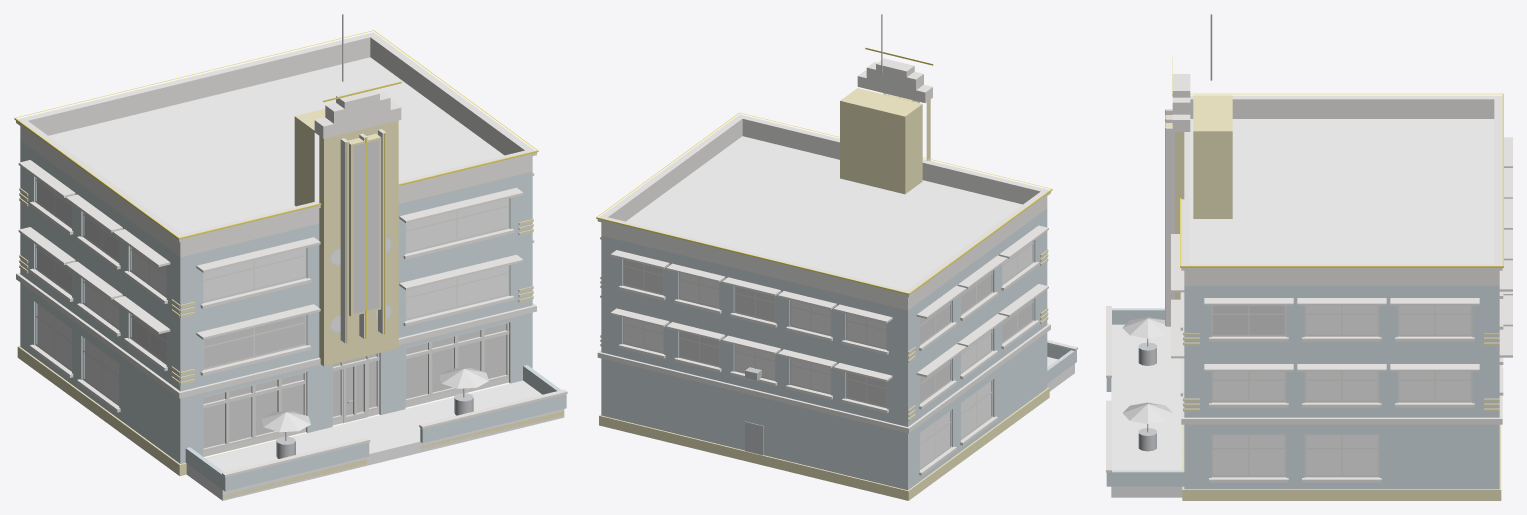
File: deco_w66f2.glb
3 views of the same model, side by side, from view 1: azimuth 30°, elevation 25°; view 2: azimuth 150°, elevation 25°; view 3: azimuth 270°, elevation 25° (orthographic). The views are drawn at different scales.
Visible parts, largest first — view 1: deco_w66f2_Trim, deco_w66f2_Walls, deco_w66f2_Roof, deco_w66f2_Accent, deco_w66f2_WindowsLit, deco_w66f2_Glass, deco_w66f2_Frames, deco_w66f2_Walls2, deco_w66f2_Brand, deco_w66f2_Neon, deco_w66f2_Awning, deco_w66f2_Details; view 2: deco_w66f2_Walls, deco_w66f2_Trim, deco_w66f2_Roof, deco_w66f2_Accent, deco_w66f2_Glass, deco_w66f2_WindowsLit, deco_w66f2_Frames, deco_w66f2_Neon, deco_w66f2_Details; view 3: deco_w66f2_Roof, deco_w66f2_Walls, deco_w66f2_Trim, deco_w66f2_Glass, deco_w66f2_Accent, deco_w66f2_Walls2, deco_w66f2_Frames, deco_w66f2_WindowsLit, deco_w66f2_Neon, deco_w66f2_Awning, deco_w66f2_Details.
Part boxes in pixels (box(x1,y1,x2,y2)): deco_w66f2_Trim: box(16, 32, 567, 477); deco_w66f2_Walls: box(20, 140, 566, 491); deco_w66f2_Roof: box(48, 57, 504, 233); deco_w66f2_Accent: box(17, 109, 564, 498); deco_w66f2_WindowsLit: box(37, 178, 506, 448); deco_w66f2_Glass: box(37, 198, 507, 404); deco_w66f2_Frames: box(35, 177, 509, 451); deco_w66f2_Walls2: box(186, 380, 564, 500); deco_w66f2_Brand: box(353, 140, 379, 313); deco_w66f2_Neon: box(14, 30, 538, 343); deco_w66f2_Awning: box(261, 367, 488, 432); deco_w66f2_Details: box(276, 14, 473, 458); deco_w66f2_Walls: box(601, 208, 1076, 490); deco_w66f2_Trim: box(597, 58, 1077, 475); deco_w66f2_Roof: box(626, 136, 1022, 289); deco_w66f2_Accent: box(599, 88, 1049, 500); deco_w66f2_Glass: box(624, 242, 1032, 468); deco_w66f2_WindowsLit: box(624, 259, 1032, 406); deco_w66f2_Frames: box(622, 241, 1034, 469); deco_w66f2_Neon: box(596, 47, 1052, 294); deco_w66f2_Details: box(745, 14, 882, 455); deco_w66f2_Roof: box(1189, 119, 1494, 263); deco_w66f2_Walls: box(1106, 286, 1499, 489); deco_w66f2_Trim: box(1106, 74, 1512, 482); deco_w66f2_Glass: box(1213, 305, 1470, 475); deco_w66f2_Accent: box(1111, 95, 1501, 500); deco_w66f2_Walls2: box(1111, 324, 1183, 497); deco_w66f2_Frames: box(1211, 305, 1472, 477); deco_w66f2_WindowsLit: box(1213, 305, 1284, 334); deco_w66f2_Neon: box(1165, 57, 1503, 325); deco_w66f2_Awning: box(1122, 317, 1172, 423); deco_w66f2_Details: box(1138, 14, 1212, 451).
Size of the model in its own units: 70.4 by 73 by 67.1.
